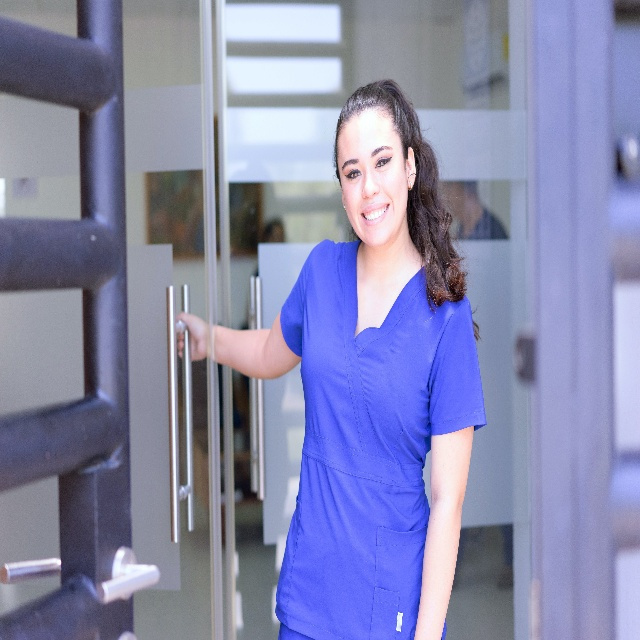Sin_guantes: (175, 311, 207, 363)
